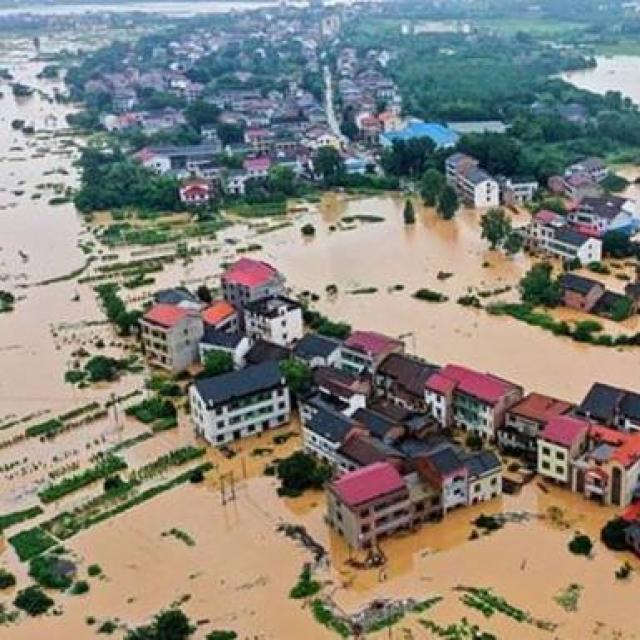flood: (0, 52, 640, 640), (79, 193, 640, 402), (571, 56, 640, 100), (615, 166, 640, 204)
house: (326, 454, 414, 559), (193, 356, 295, 446), (506, 390, 592, 496), (561, 402, 640, 514), (430, 356, 523, 444), (139, 296, 202, 374), (222, 252, 286, 314), (531, 212, 604, 264), (305, 408, 364, 458), (428, 448, 469, 518), (248, 296, 301, 349), (345, 323, 406, 369), (448, 153, 499, 208), (387, 356, 434, 414), (552, 269, 606, 314), (342, 432, 406, 468), (469, 446, 504, 505), (319, 368, 368, 410), (354, 404, 405, 443), (294, 330, 342, 370), (338, 74, 395, 106), (200, 298, 240, 338), (178, 176, 222, 208), (564, 154, 607, 184), (505, 174, 538, 205), (220, 89, 264, 112), (171, 74, 204, 101), (302, 125, 340, 148), (147, 147, 176, 174), (358, 112, 382, 144), (240, 156, 272, 176), (252, 129, 271, 156), (276, 136, 298, 157), (226, 172, 246, 194), (199, 122, 220, 139)
